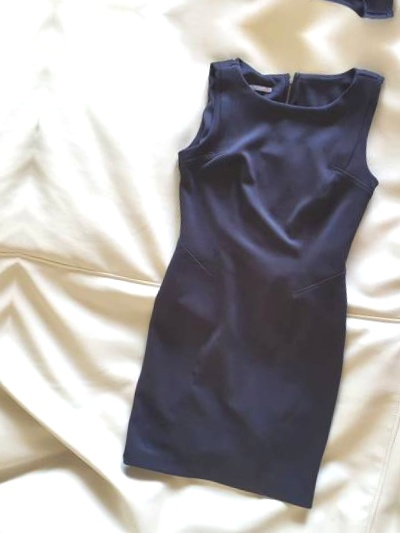Dress: (79, 24, 400, 510), (148, 0, 400, 39)
